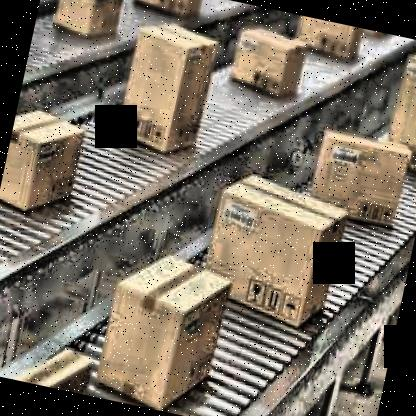no defect parcel: (187, 157, 352, 338), (87, 238, 239, 416), (104, 10, 236, 171), (289, 109, 416, 236), (0, 99, 93, 226), (220, 18, 322, 106), (371, 42, 416, 176), (40, 0, 131, 55), (284, 14, 369, 67)
